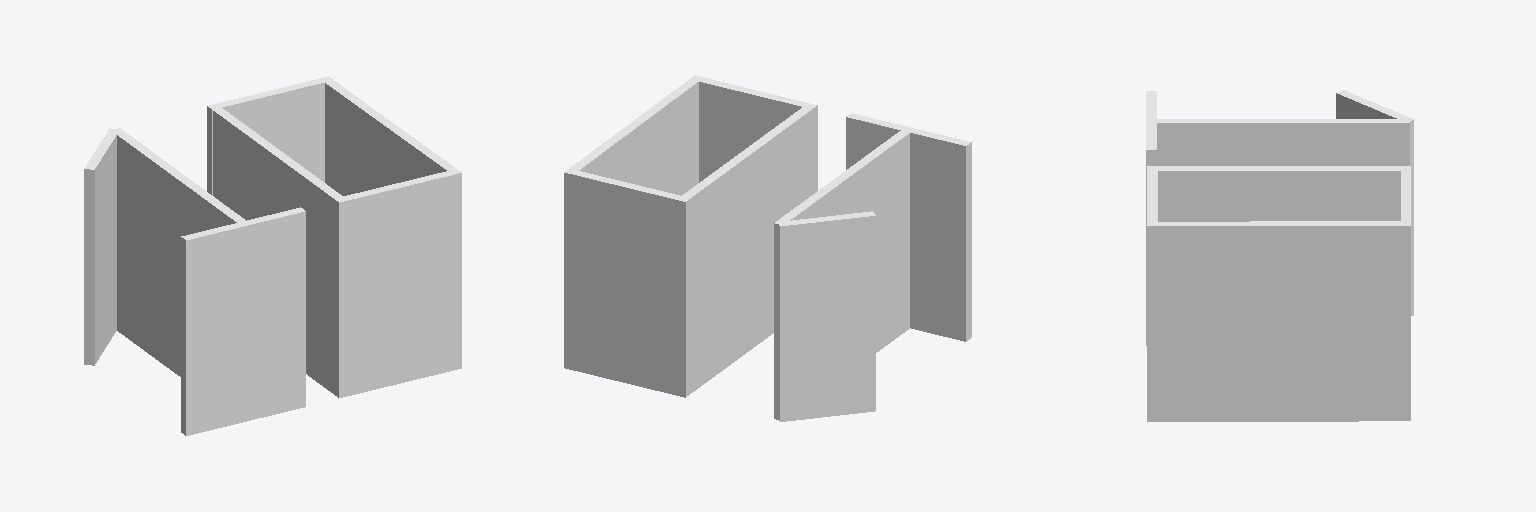
3 views of the same model, side by side, from view 1: azimuth 30°, elevation 25°; view 2: azimuth 150°, elevation 25°; view 3: azimuth 270°, elevation 25° (orthographic).
Visible parts, largest first — view 1: wall_5_28, wall_3_16, wall_2_10, wall_4_22, wall_6_33, wall_1_3, wall_7_39, wall_1_4, wall_6_36, wall_2_11, wall_4_24, wall_3_15 (+3 smaller); view 2: wall_7_40, wall_4_22, wall_1_4, wall_3_15, wall_2_10, wall_6_33, wall_5_27, wall_2_9, wall_6_36, wall_3_16, wall_7_39, wall_2_11 (+4 smaller); view 3: wall_6_34, wall_4_21, wall_2_9, wall_1_3, wall_4_24, wall_1_4, wall_6_35, wall_6_36.
Boxes of the visible parts, box(x1,y1,x2,y2) form: wall_5_28: box(339, 173, 461, 397); wall_3_16: box(184, 211, 305, 435); wall_2_10: box(117, 135, 236, 376); wall_4_22: box(213, 111, 338, 397); wall_6_33: box(325, 83, 446, 195); wall_1_3: box(89, 135, 116, 365); wall_7_39: box(210, 83, 324, 195); wall_1_4: box(84, 169, 88, 364); wall_6_36: box(327, 76, 461, 172); wall_2_11: box(116, 128, 247, 222); wall_4_24: box(209, 106, 340, 201); wall_3_15: box(181, 237, 183, 433); wall_7_40: box(564, 173, 687, 397); wall_4_22: box(691, 105, 817, 392); wall_1_4: box(779, 216, 875, 421); wall_3_15: box(846, 117, 968, 341); wall_2_10: box(790, 133, 909, 352); wall_6_33: box(579, 82, 698, 195); wall_5_27: box(699, 82, 801, 182); wall_2_9: box(774, 223, 778, 419); wall_6_36: box(565, 75, 695, 171); wall_3_16: box(969, 142, 971, 339); wall_7_39: box(688, 199, 690, 395); wall_2_11: box(775, 128, 907, 223); wall_6_34: box(1147, 226, 1410, 421); wall_4_21: box(1158, 171, 1400, 221); wall_2_9: box(1157, 123, 1409, 165); wall_1_3: box(1336, 93, 1396, 118); wall_4_24: box(1147, 166, 1400, 168); wall_1_4: box(1410, 120, 1413, 315); wall_6_35: box(1154, 221, 1403, 223); wall_6_36: box(1149, 223, 1410, 225).
Size of the model in its own units: 228 by 152 by 189.